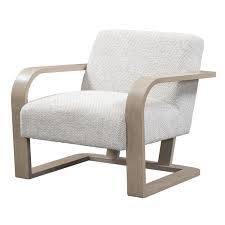chair: (9, 26, 217, 200)
